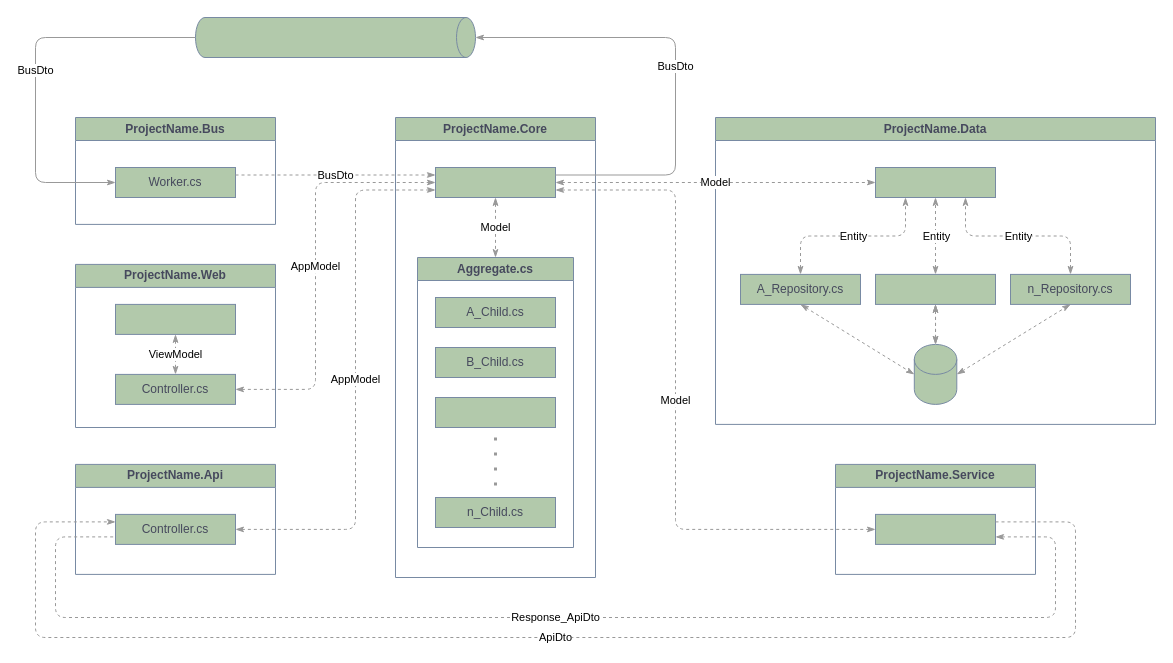
Image size: 1173x663. Some labels were removed from this diagram. The shapes that lost their labels are listed below. From the top down, each one's centre as x and y in pixels, then its label:
pixel 335 37: EVENT BUS
pixel 495 182: Feature.cs
pixel 935 182: Depot.cs
pixel 935 288: B_Repository.cs
pixel 175 318: View.cshtml
pixel 935 373: DB
pixel 495 412: C_Child.cs
pixel 935 528: Service.cs
